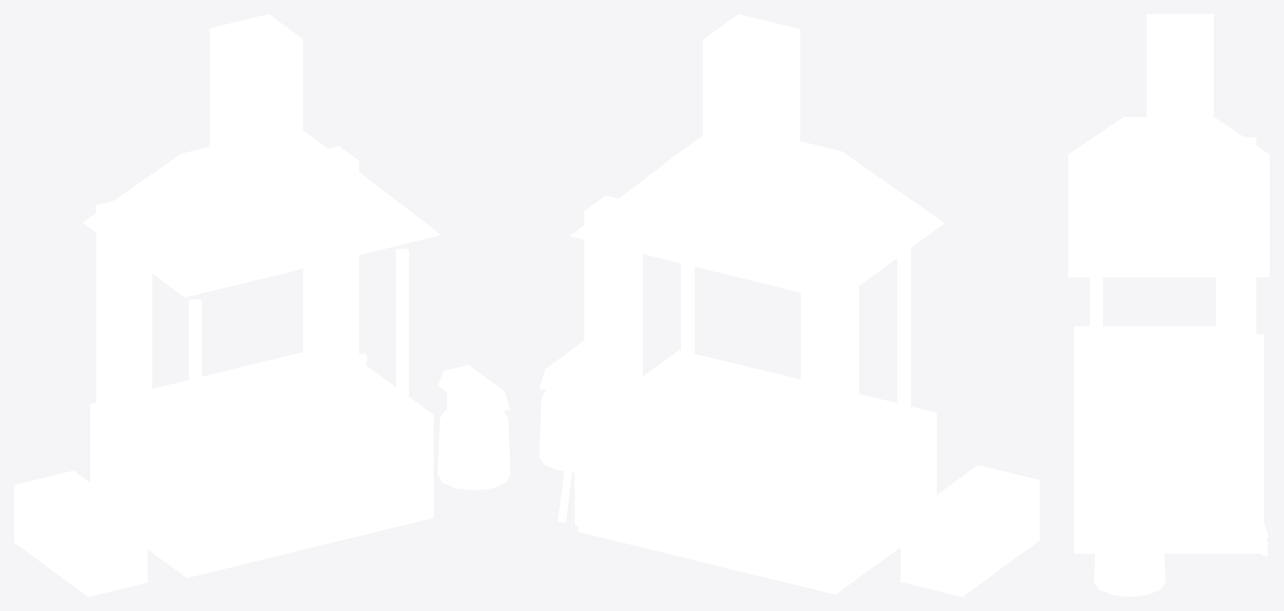
The model's file is kargan_forge.glb.
3 renders of one model, left to right at view 1: azimuth 30°, elevation 25°; view 2: azimuth 150°, elevation 25°; view 3: azimuth 270°, elevation 25°, orthographic. The views are drawn at different scales.
Parts seen in each view (by area): view 1: kargan_forge; view 2: kargan_forge; view 3: kargan_forge.
Boxes of the visible parts, x1,y1,x2,y2 form: kargan_forge: (14, 14, 510, 596); kargan_forge: (539, 14, 1039, 596); kargan_forge: (1068, 14, 1269, 596).
Bounding box in the file's own units: 4.52 × 4.6 × 1.8.
Materials: 1 (1 with a texture image).
